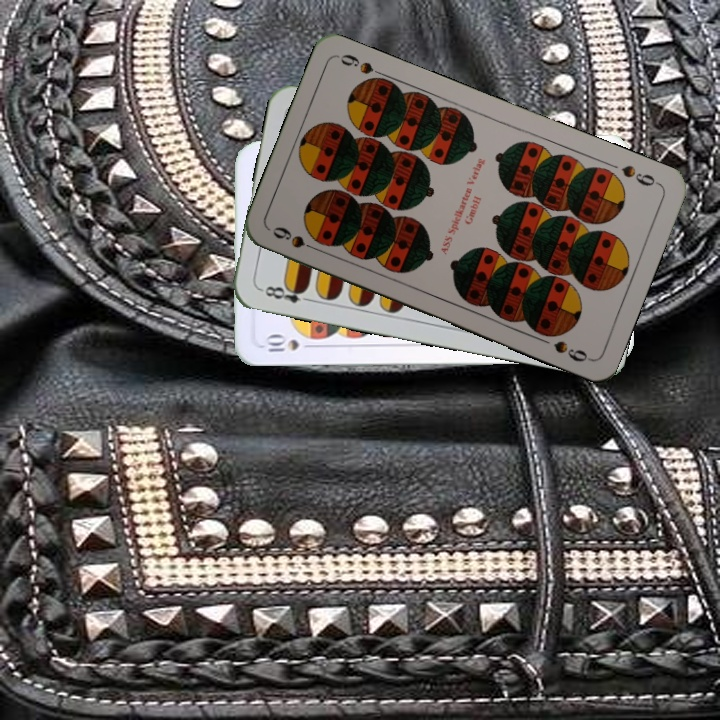E8: (256, 280, 315, 306)
S10: (260, 333, 318, 354)
S9: (268, 222, 324, 255), (617, 160, 662, 189)
